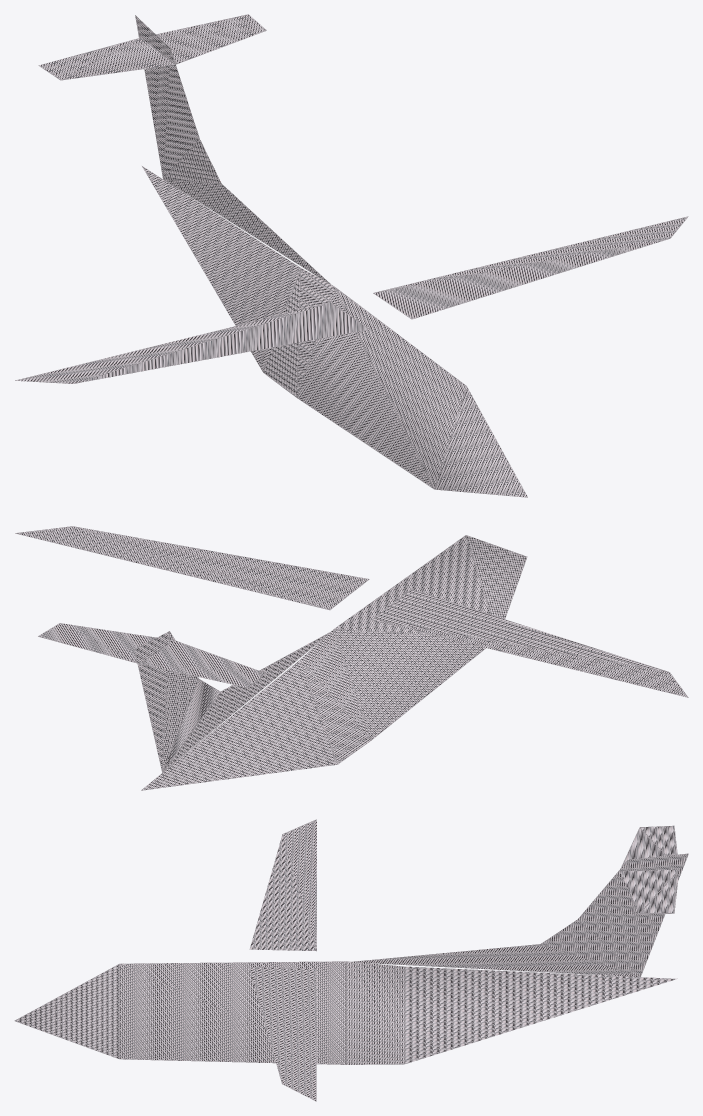
File: JBAI_Do328-100_No_APU_MSFS_LOD1.gltf
The picture shows the model from 3 angles, top to bottom: view 1: azimuth 30°, elevation 25°; view 2: azimuth 150°, elevation 25°; view 3: azimuth 270°, elevation 25°; orthographic projection. The views are drawn at different scales.
Visible parts, largest first — view 1: node1; view 2: node1; view 3: node1.
Part boxes in pixels (bbox=[...]): node1: bbox=[15, 14, 688, 497]; node1: bbox=[15, 526, 688, 790]; node1: bbox=[14, 819, 688, 1101].
Size of the model in its own units: 21.1 by 6.82 by 21.3.
